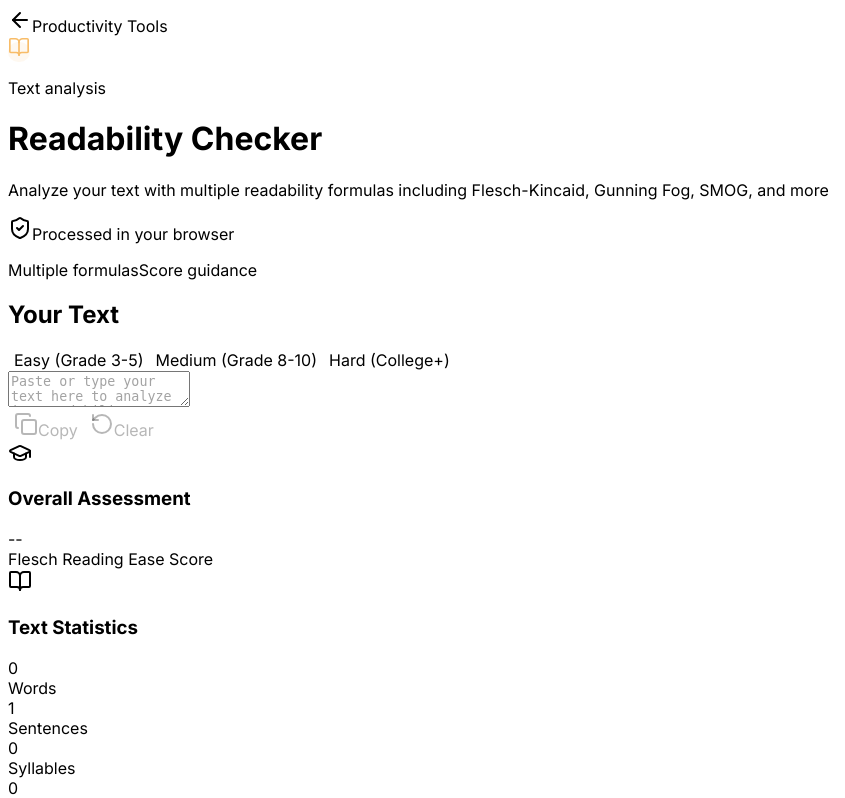
ReadabilityCheckerPage › Sample Text Loading › loads medium sample text when Medium button is clicked
This screenshot has width=845, height=798.
Click the button "Medium (Grade 8-10)" at (236, 360), box [150,349,323,371]
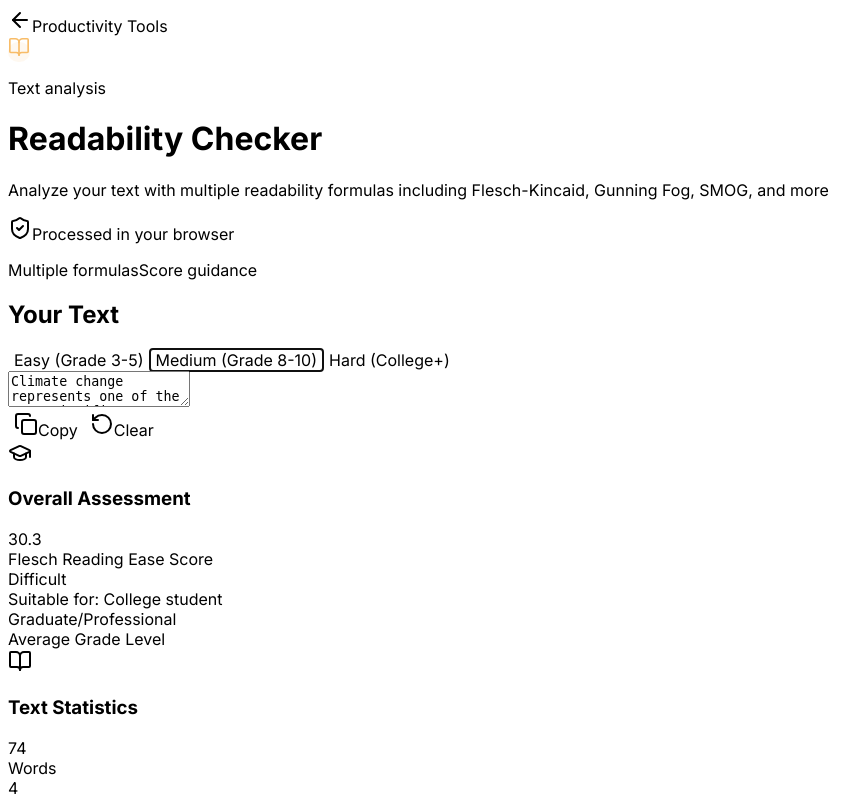
Now the text box with placeholder "Paste or type your text here to analyze its readability..." holds "Climate change represents one of the most significant challenges facing our planet today. Rising global temperatures are causing ice caps to melt at unprecedent", box [8,371,190,407]
